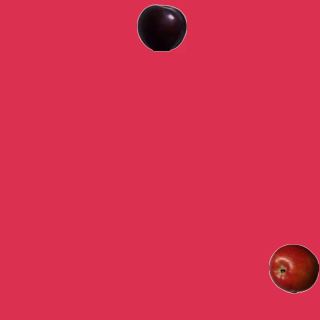Apple Braeburn: (268, 243, 318, 293)
Cherry Wax Black: (136, 2, 186, 52)
